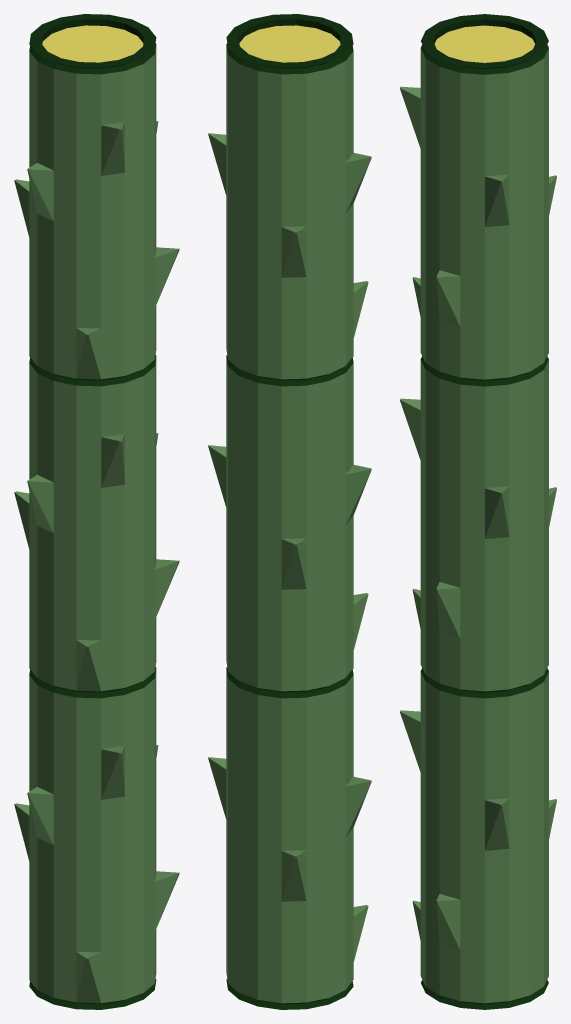
File: BamStage2.fbx
The picture shows the model from 3 angles, left to right: view 1: azimuth 30°, elevation 25°; view 2: azimuth 150°, elevation 25°; view 3: azimuth 270°, elevation 25°; orthographic projection.
Visible parts, largest first — view 1: BamStage2; view 2: BamStage2; view 3: BamStage2.
Boxes of the visible parts, <box> form: BamStage2: <box>14,14,179,1009</box>; BamStage2: <box>208,14,371,1009</box>; BamStage2: <box>400,14,556,1009</box>.
Size of the model in its own units: 265 by 1621 by 245.
